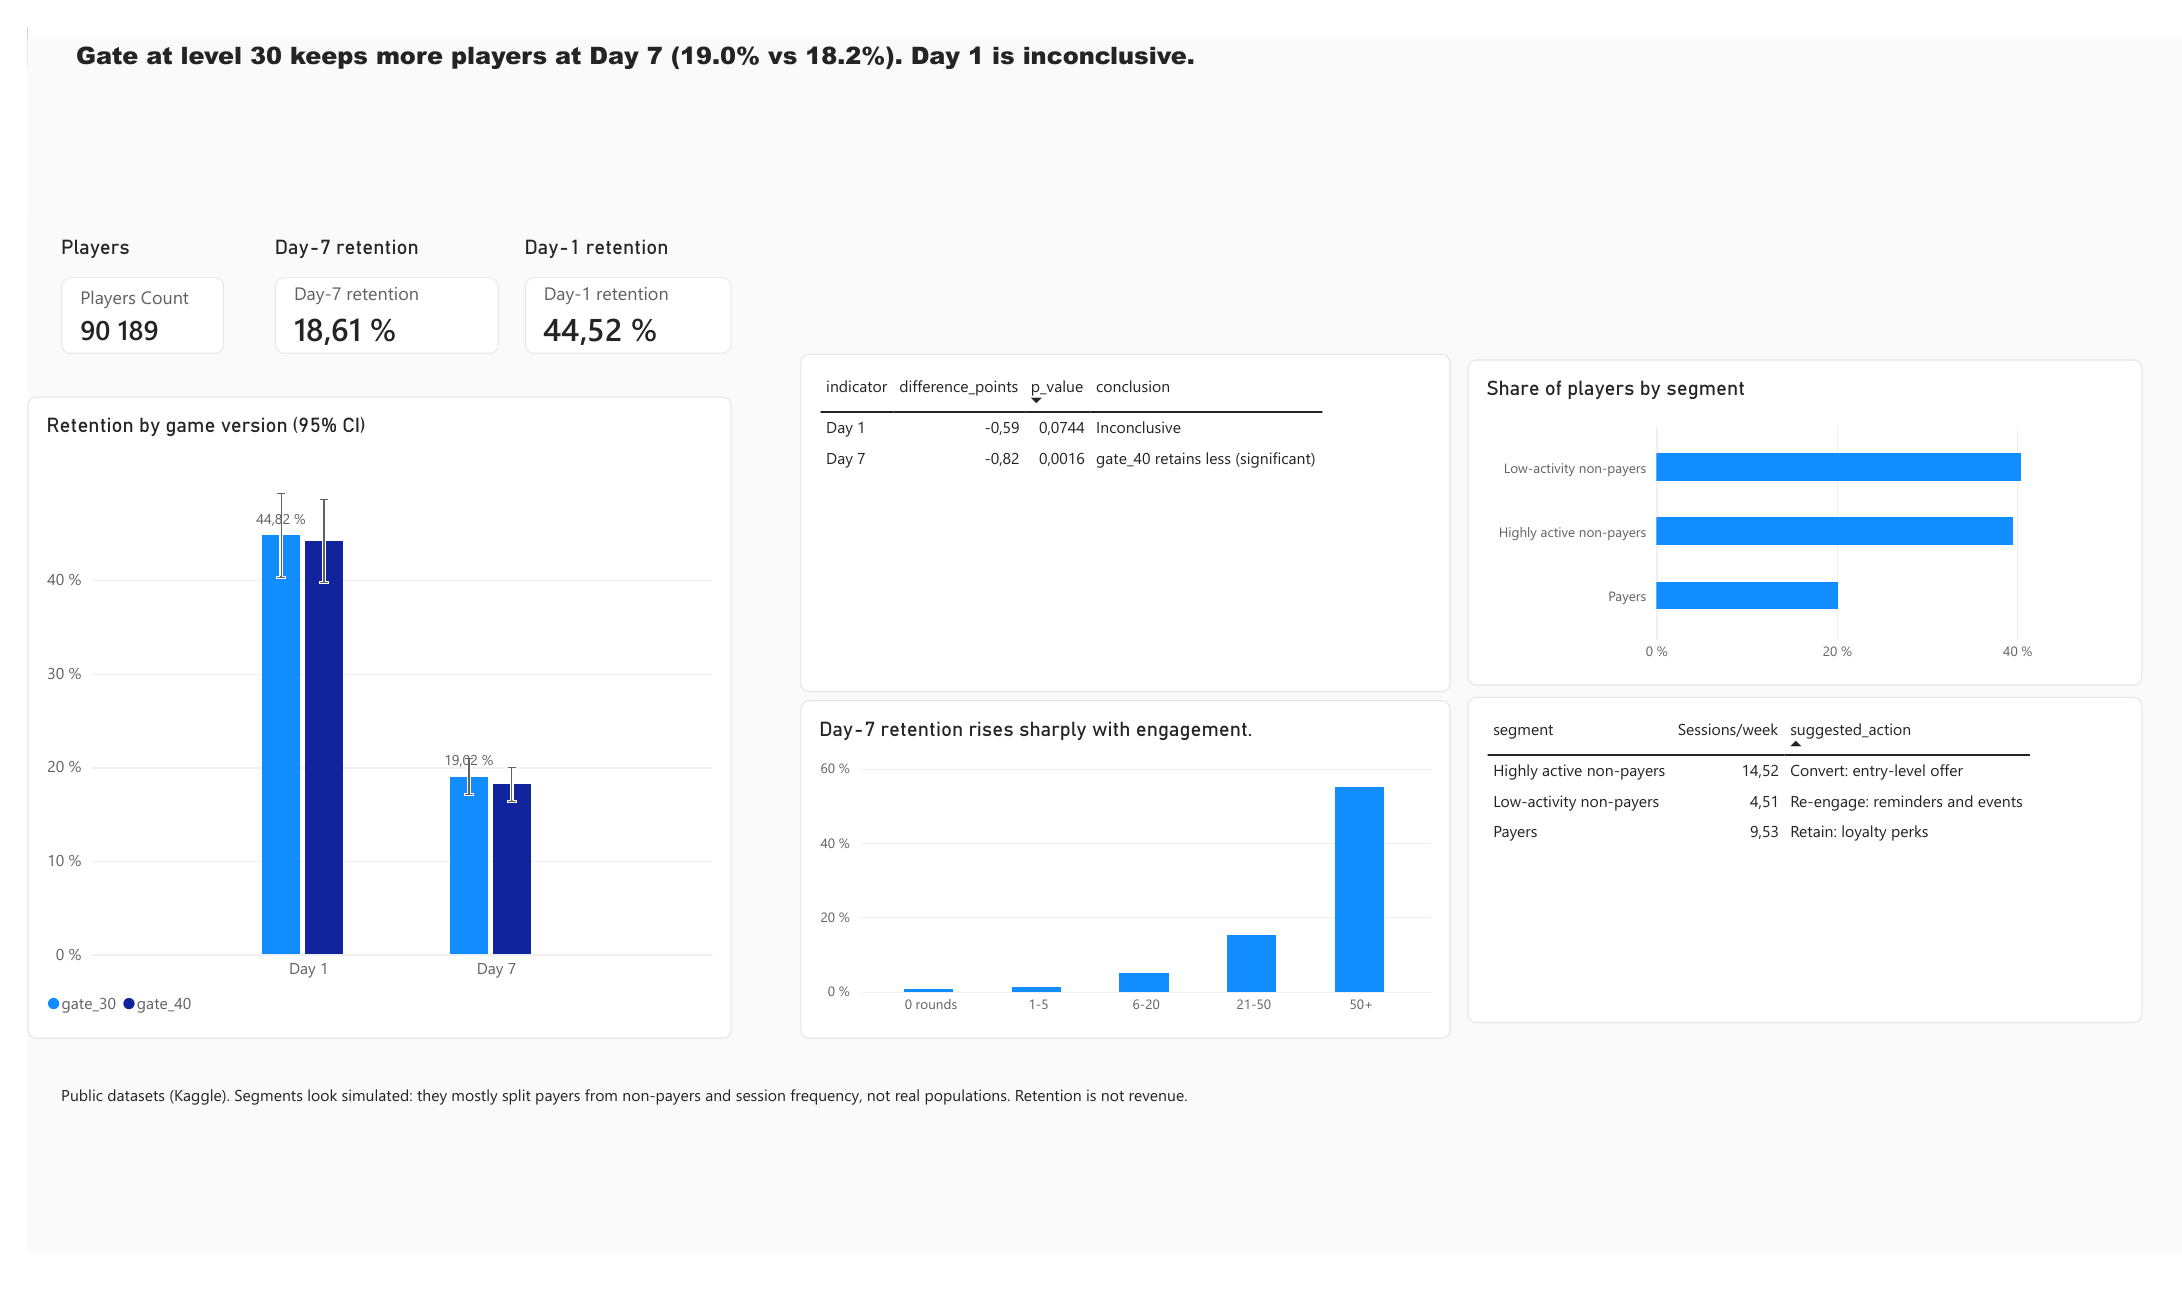

This screenshot's page, from the dashboard's own definition file:
{"tool":"powerbi","page":{"name":"Page 1","canvas":[1920,1080],"ordinal":0},"visuals":[{"type":"textbox","box":[10,0,1061,86],"z":0},{"type":"textbox","box":[10.2,290.3,280.1,68.6],"z":1000},{"type":"cardVisual","title":"Players","fields":{"Data":["kpi_global.Players Count"]},"box":[30.4,175.1,144.7,105.1],"z":2000},{"type":"cardVisual","title":"Day-1 retention","fields":{"Data":["Max(kpi_global.retention_j1)"]},"box":[442.1,175.1,183.8,105],"z":3000},{"type":"cardVisual","title":"Day-7 retention","fields":{"Data":["Max(kpi_global.retention_j7)"]},"box":[220.2,175.1,199,105.1],"z":4000},{"type":"textbox","box":[205.7,445,267.2,42.4],"z":5000},{"type":"clusteredColumnChart","title":"Retention by game version (95% CI)","fields":{"Category":["retention_by_version.indicator"],"Series":["retention_by_version.version"],"Y":["Sum(retention_by_version.retention)"]},"box":[0,318.1,625.9,570.5],"z":6000},{"type":"tableEx","fields":{"Values":["ab_test_results.indicator","ab_test_results.difference_points","ab_test_results.p_value","ab_test_results.conclusion"]},"box":[687.2,280.1,577.8,300.5],"z":7000},{"type":"columnChart","title":"Day-7 retention rises sharply with engagement.","fields":{"Category":["engagement_funnel.band"],"Y":["Sum(engagement_funnel.retention_j7)"]},"box":[687.2,588,578,301],"z":8000},{"type":"clusteredBarChart","title":"Share of players by segment","fields":{"Category":["segments.segment"],"Y":["Sum(segments.share_of_players)"]},"box":[1280,285,600,290],"z":9000},{"type":"tableEx","fields":{"Values":["segments.segment","Sum(segments.sessions_per_week)","segments.suggested_action"]},"box":[1280,585,600,290],"z":10000},{"type":"textbox","box":[30,930,1850,70],"z":11000}]}

Visuals, with their boxes on the page's 1920x1080 design canvas (x1, y1, x2, y2). These are canvas units, not pixel positions in the 2182x1293 screenshot, which may show the page scaled, cropped or inside an application window:
textbox: bbox(10, 0, 1071, 86)
textbox: bbox(10, 290, 290, 359)
"Players" cardVisual: bbox(30, 175, 175, 280)
"Day-1 retention" cardVisual: bbox(442, 175, 626, 280)
"Day-7 retention" cardVisual: bbox(220, 175, 419, 280)
textbox: bbox(206, 445, 473, 487)
"Retention by game version (95% CI)" clusteredColumnChart: bbox(0, 318, 626, 889)
tableEx - ab_test_results.indicator x ab_test_results.difference_points: bbox(687, 280, 1265, 581)
"Day-7 retention rises sharply with engagement." columnChart: bbox(687, 588, 1265, 889)
"Share of players by segment" clusteredBarChart: bbox(1280, 285, 1880, 575)
tableEx - segments.segment x Sum(segments.sessions_per_week): bbox(1280, 585, 1880, 875)
textbox: bbox(30, 930, 1880, 1000)
